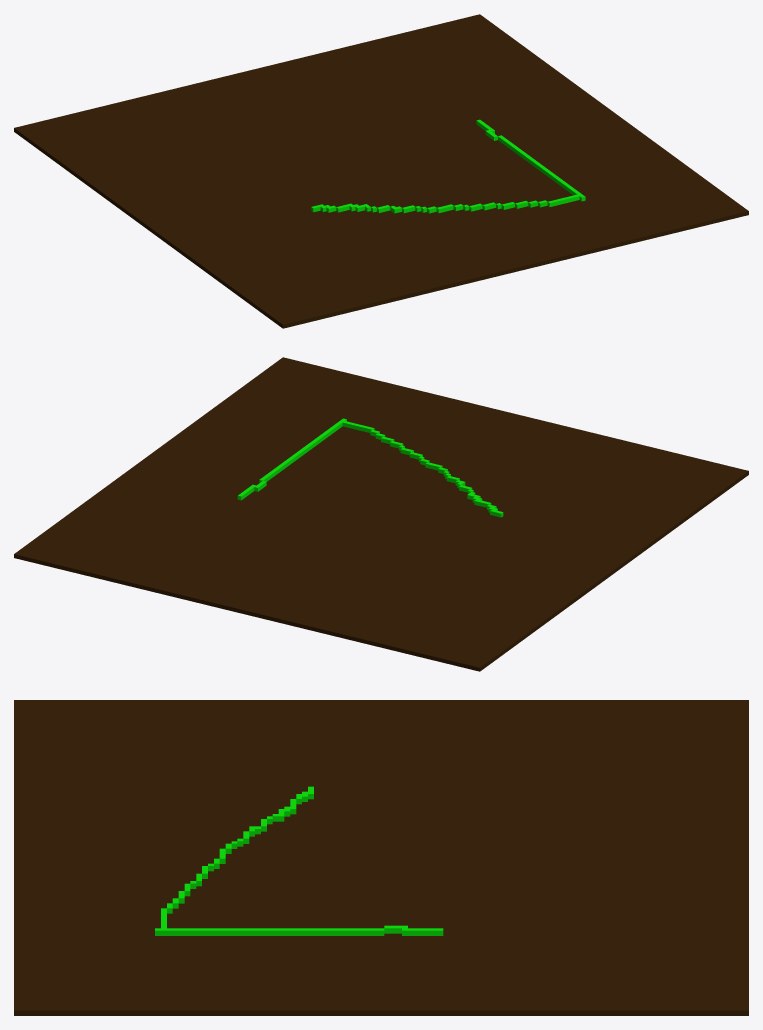
File: Level01-6.obj
3 views of the same model, one above another, from view 1: azimuth 30°, elevation 25°; view 2: azimuth 150°, elevation 25°; view 3: azimuth 270°, elevation 25° (orthographic). The views are drawn at different scales.
Parts seen in each view (by area): view 1: Level01-6; view 2: Level01-6; view 3: Level01-6.
Part boxes in pixels (x1=…): Level01-6: x1=14, y1=14, x2=748, y2=328; Level01-6: x1=14, y1=357, x2=748, y2=671; Level01-6: x1=14, y1=700, x2=748, y2=1015.
Bounding box in the file's own units: 125 × 2 × 125.
1 material, 1 textured.
